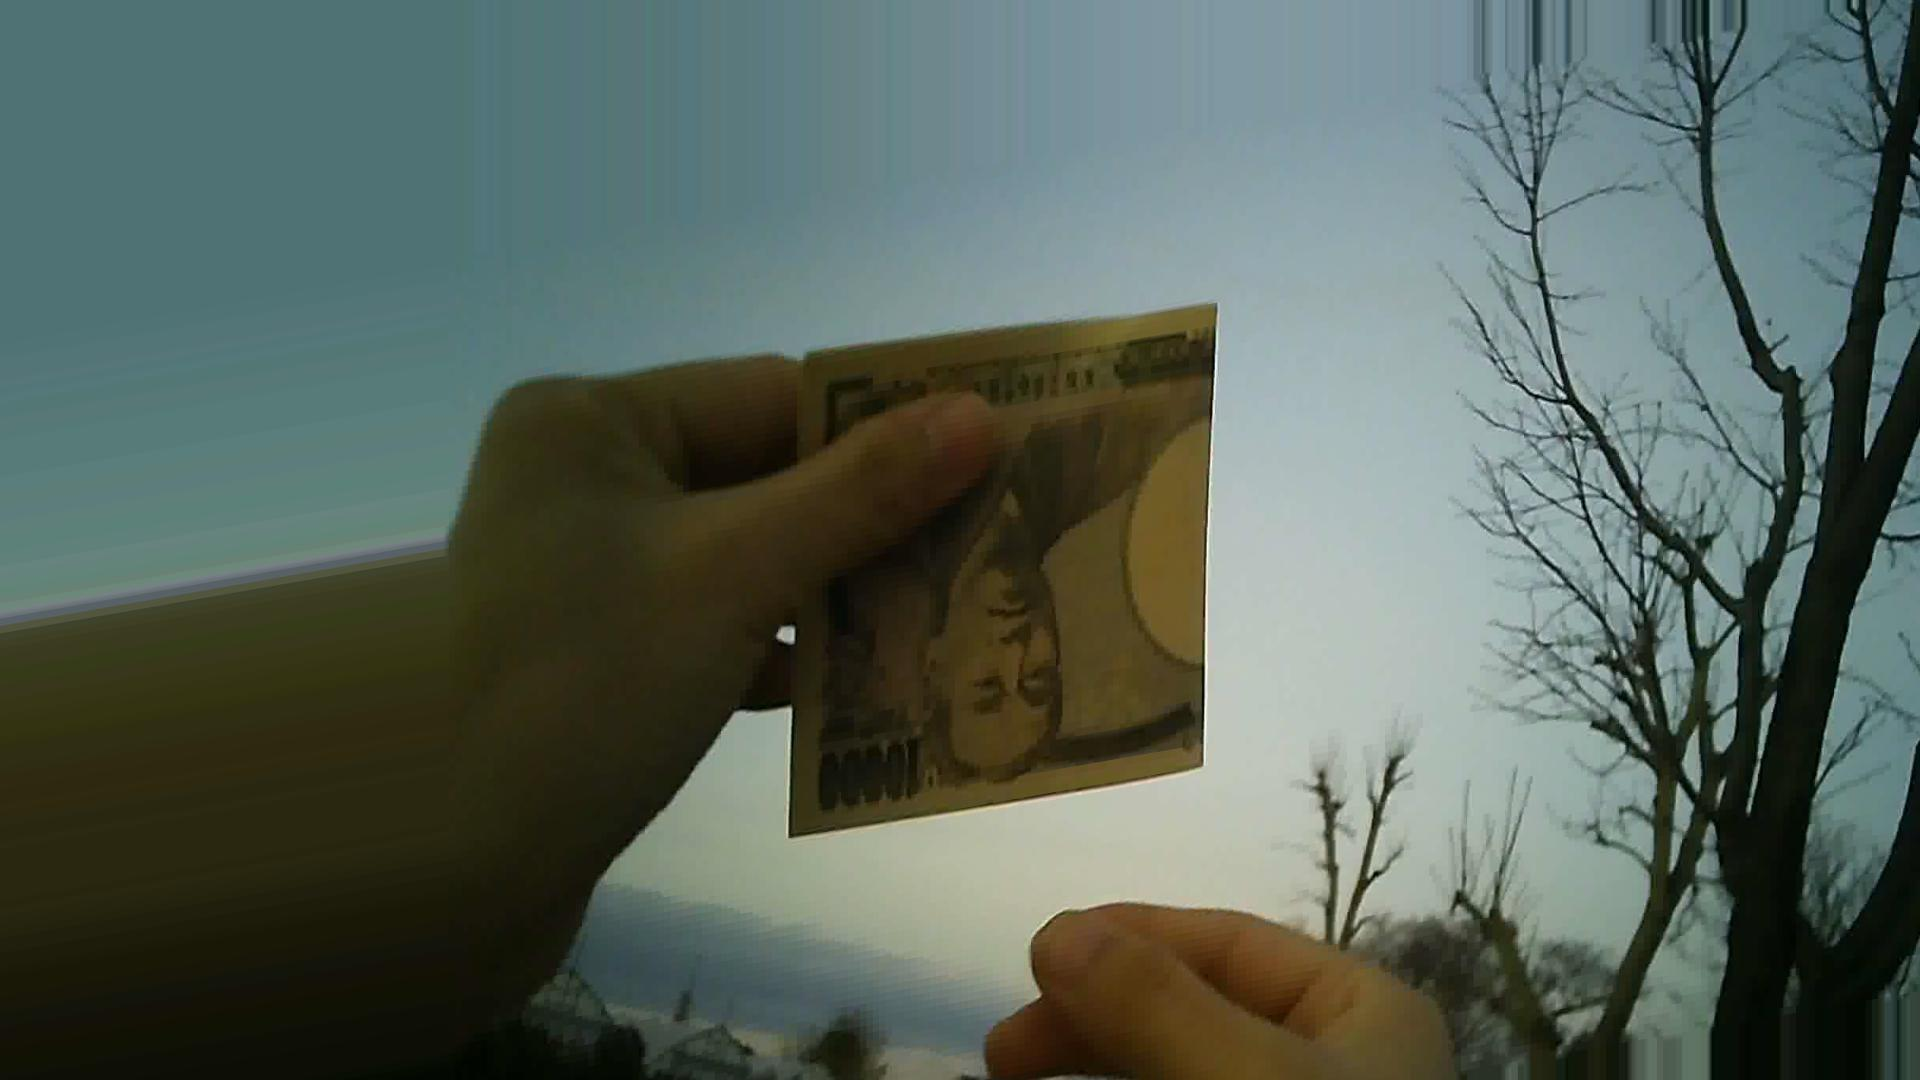10,000 Yen: (775, 293, 1209, 833)
